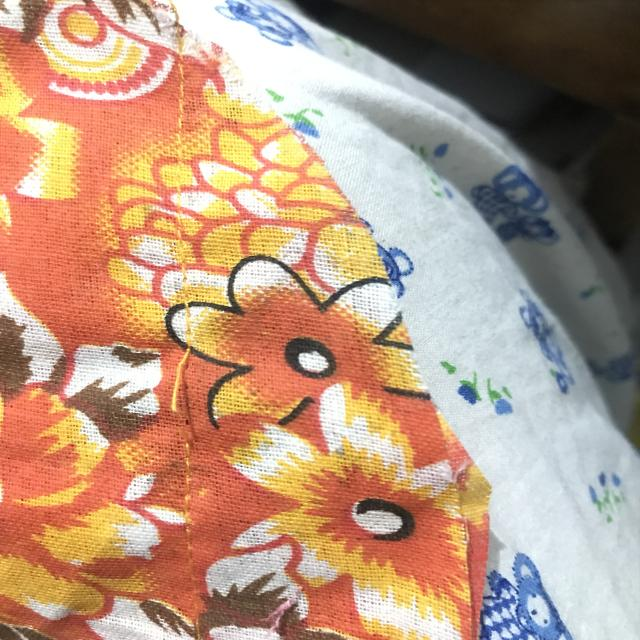broken: (155, 326, 228, 468)
